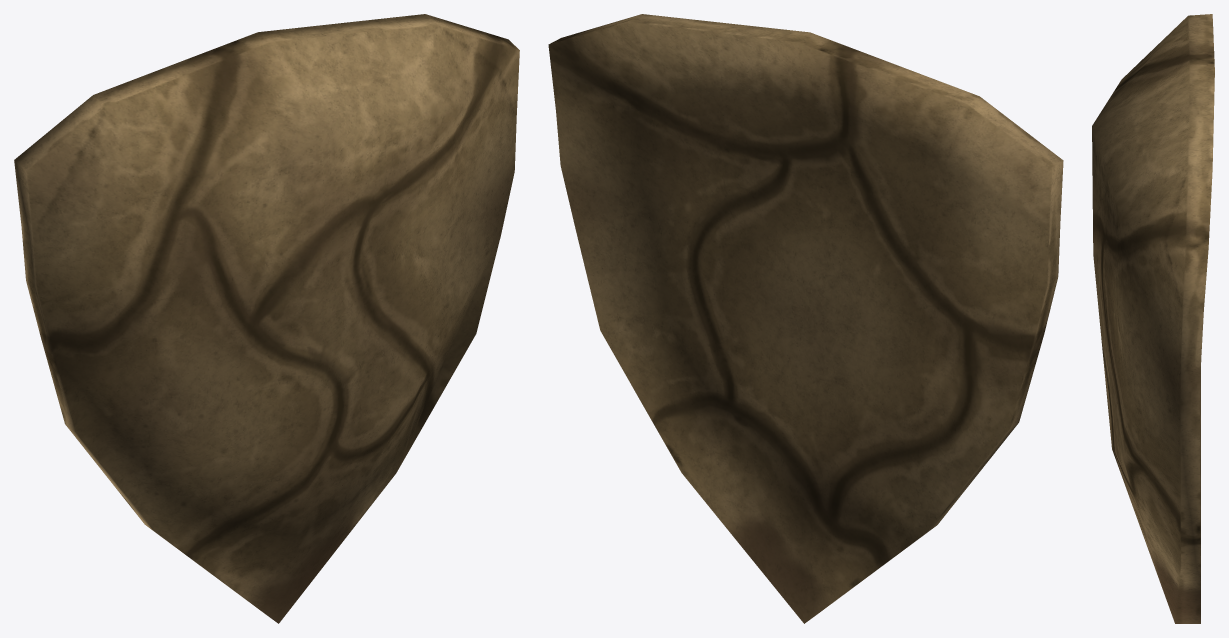
File: Nature_Shield.FBX
3 views of the same model, side by side, from view 1: azimuth 30°, elevation 25°; view 2: azimuth 150°, elevation 25°; view 3: azimuth 270°, elevation 25° (orthographic). The views are drawn at different scales.
Parts seen in each view (by area): view 1: Nature_Shield; view 2: Nature_Shield; view 3: Nature_Shield.
Part boxes in pixels (bbox=[...]): Nature_Shield: bbox=[14, 14, 519, 623]; Nature_Shield: bbox=[548, 14, 1063, 623]; Nature_Shield: bbox=[1092, 14, 1214, 623].
Size of the model in its own units: 45.66 by 50.89 by 10.26.
